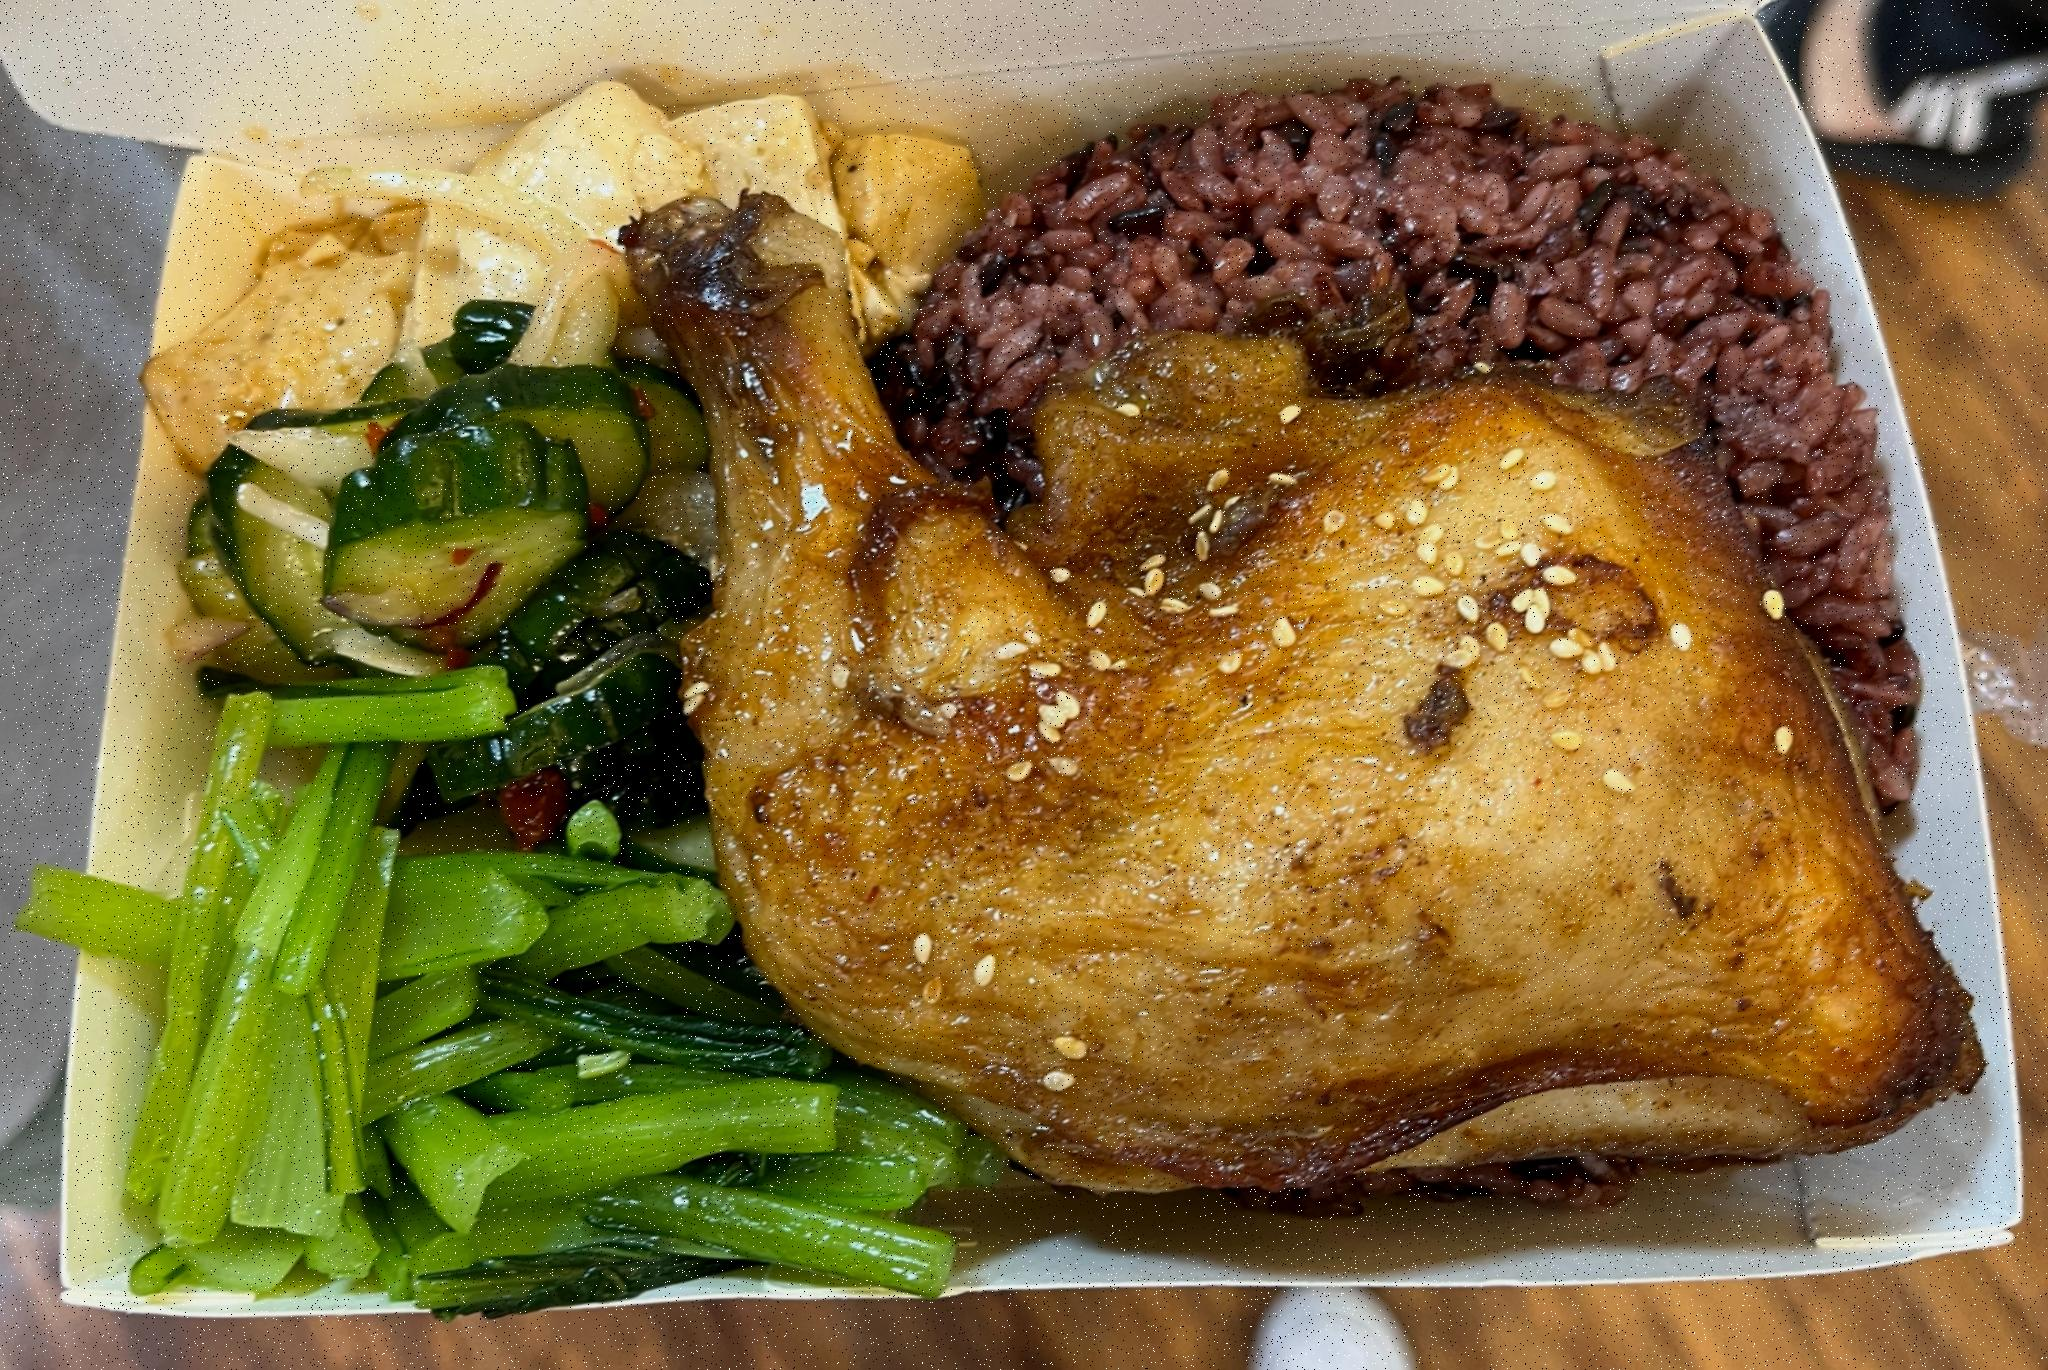big grilled chicken leg: (588, 200, 2005, 1203)
box: (26, 28, 2025, 1359)
purple rice: (917, 84, 1923, 1216)
side dish: (141, 786, 900, 1292), (159, 335, 741, 830), (179, 76, 967, 411)
